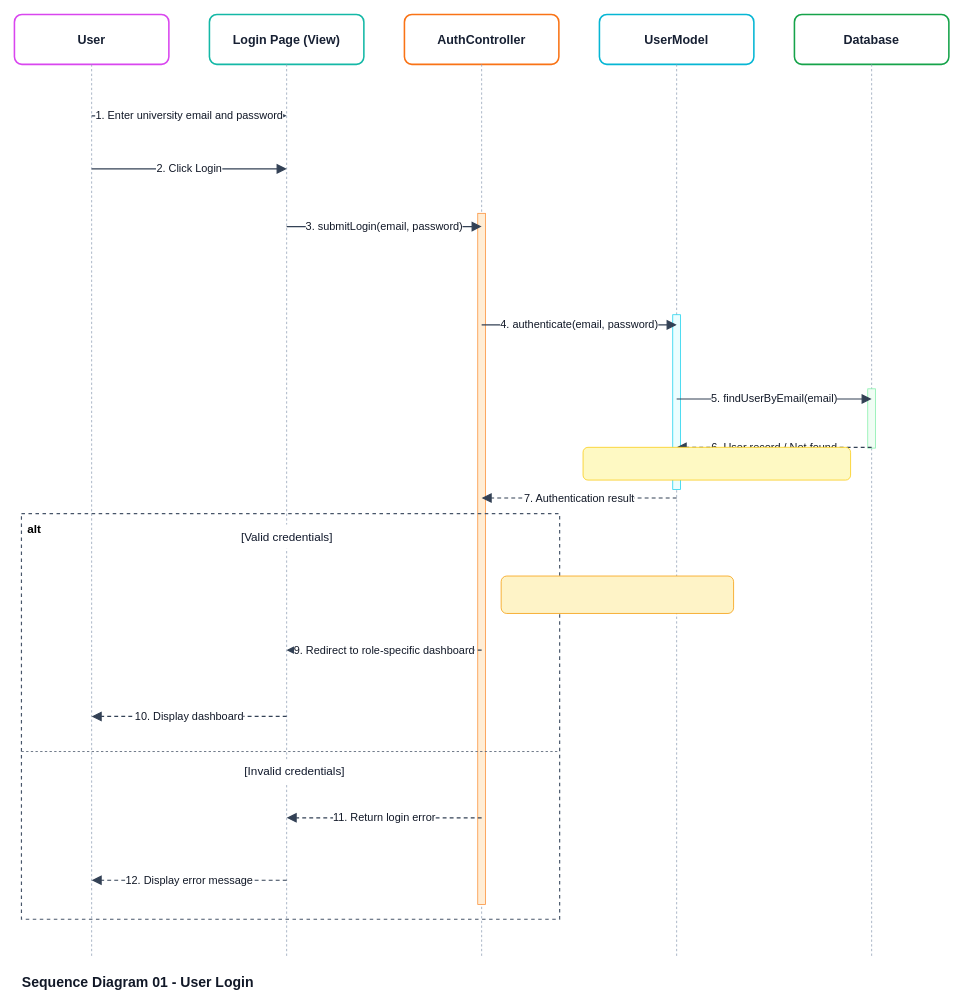
Some shapes in this 963 by 1008 pixel diagram are drawn without their labels. The shapes that lost their labels are listed below. From the top down, each one's centre as x and y in pixels, then its label:
At point 716,463: "If user exists, verify password using the stored hash.".
At point 617,594: "8. Create authenticated session".
